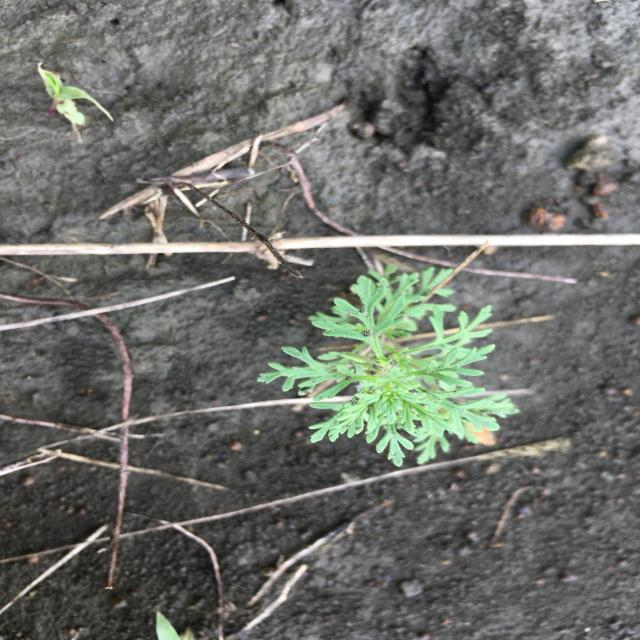Ragweed: (254, 263, 524, 469)
